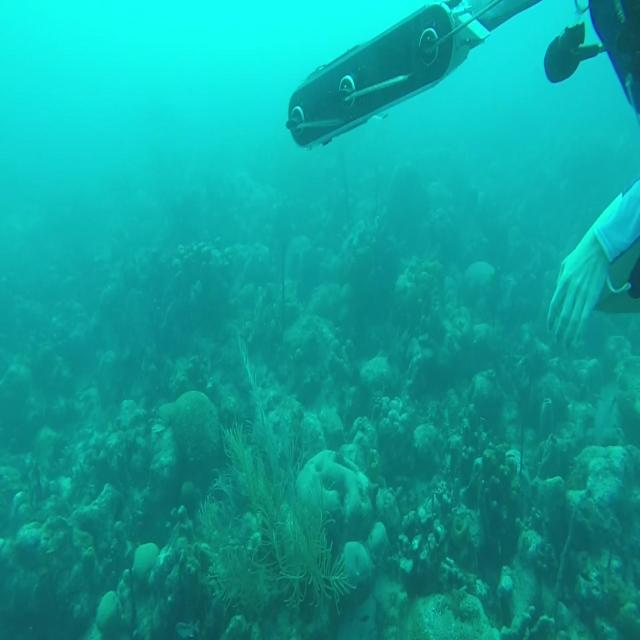human: (543, 0, 639, 350)
